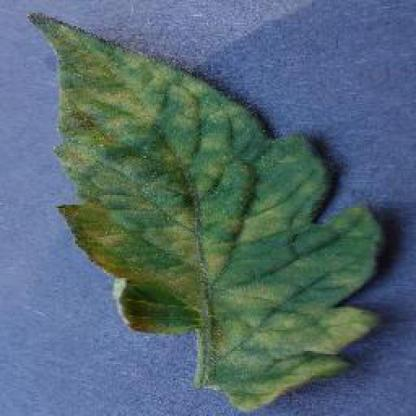Tomato_Leaf_Mold: (26, 15, 382, 406)
